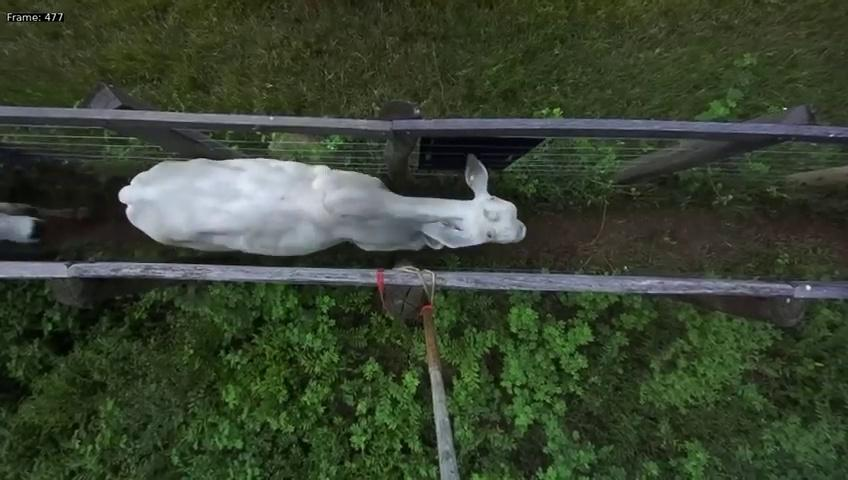cattle: (115, 146, 528, 259)
